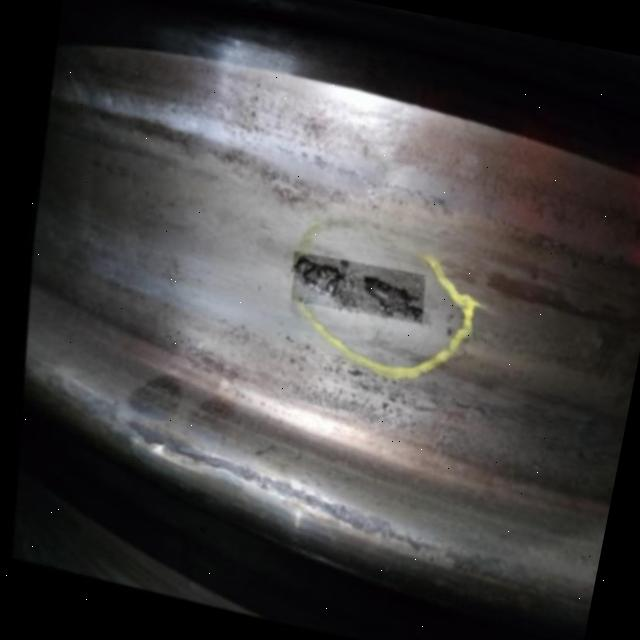Blue hole: (348, 257, 427, 341), (289, 247, 347, 320)
